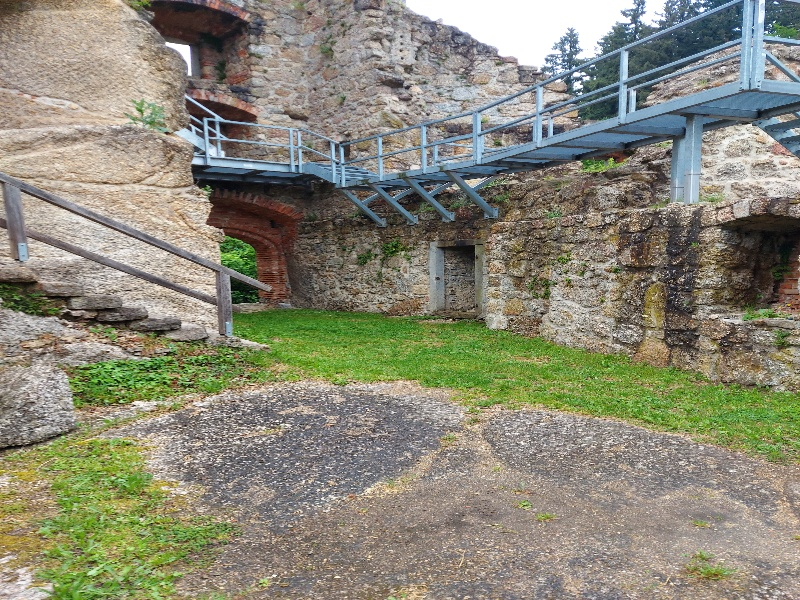door1: (425, 237, 491, 323)
